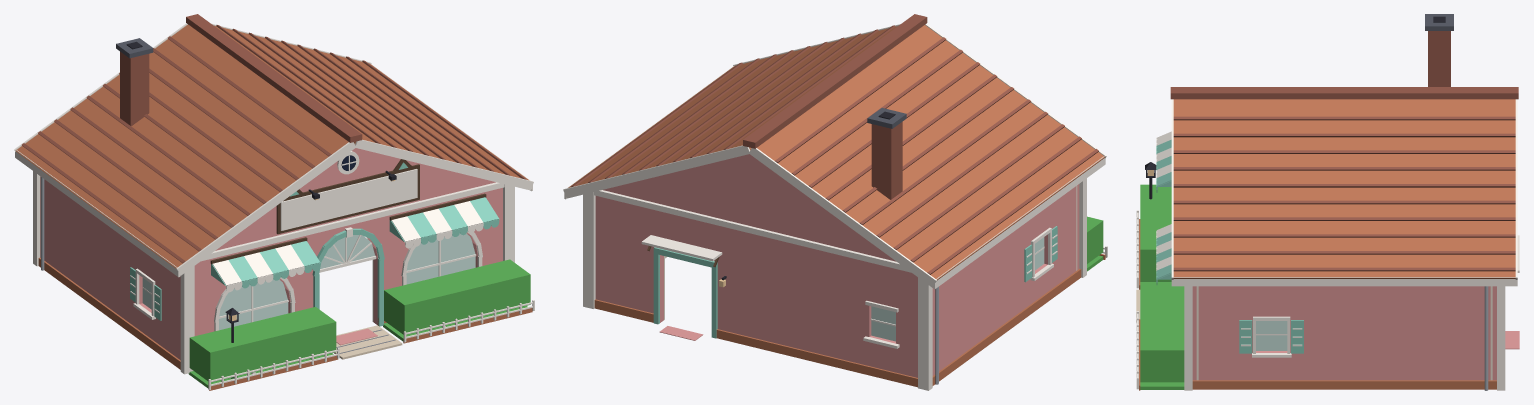
Rendered from CatCafe_Plot_Cafe_Blush.glb.
3 renders of one model, left to right at view 1: azimuth 30°, elevation 25°; view 2: azimuth 150°, elevation 25°; view 3: azimuth 270°, elevation 25°, orthographic. The views are drawn at different scales.
Parts seen in each view (by area): view 1: CatCafe_Plot_Cafe_Blush_Roof, CatCafe_Plot_Cafe_Blush, CatCafe_Plot_Cafe_Blush_Fireflies, CatCafe_Plot_Cafe_Blush_Glass, CatCafe_Plot_Cafe_Blush_SignBoard, CatCafe_Plot_Cafe_Blush_Flowers; view 2: CatCafe_Plot_Cafe_Blush_Roof, CatCafe_Plot_Cafe_Blush, CatCafe_Plot_Cafe_Blush_Glass, CatCafe_Plot_Cafe_Blush_Fireflies; view 3: CatCafe_Plot_Cafe_Blush_Roof, CatCafe_Plot_Cafe_Blush, CatCafe_Plot_Cafe_Blush_Fireflies, CatCafe_Plot_Cafe_Blush_Glass, CatCafe_Plot_Cafe_Blush_Flowers.
Part boxes in pixels (x1,y1,x2,y2): CatCafe_Plot_Cafe_Blush_Roof: (14,14,533,277); CatCafe_Plot_Cafe_Blush: (33,148,534,390); CatCafe_Plot_Cafe_Blush_Fireflies: (189,259,530,382); CatCafe_Plot_Cafe_Blush_Glass: (142,233,475,330); CatCafe_Plot_Cafe_Blush_SignBoard: (280,169,417,230); CatCafe_Plot_Cafe_Blush_Flowers: (188,306,527,388); CatCafe_Plot_Cafe_Blush_Roof: (563,14,1106,289); CatCafe_Plot_Cafe_Blush: (583,154,1107,390); CatCafe_Plot_Cafe_Blush_Glass: (871,237,1044,341); CatCafe_Plot_Cafe_Blush_Fireflies: (1087,216,1103,263); CatCafe_Plot_Cafe_Blush_Roof: (1170,14,1518,286); CatCafe_Plot_Cafe_Blush: (1136,131,1519,390); CatCafe_Plot_Cafe_Blush_Fireflies: (1140,184,1184,382); CatCafe_Plot_Cafe_Blush_Glass: (1256,321,1287,350); CatCafe_Plot_Cafe_Blush_Flowers: (1140,282,1184,389).
Size of the model in its own units: 41.86 by 25.3 by 36.8.
Materials: 1 (1 with a texture image).
